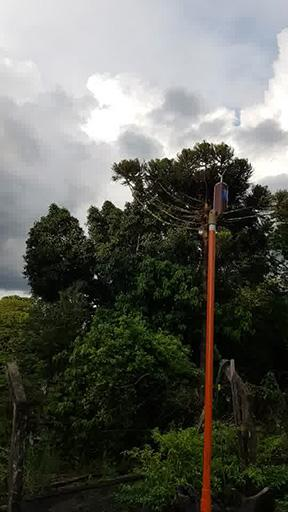Detector_Tensao_Contato: (212, 170, 228, 217)
Vara_Manobra: (199, 216, 217, 512)
